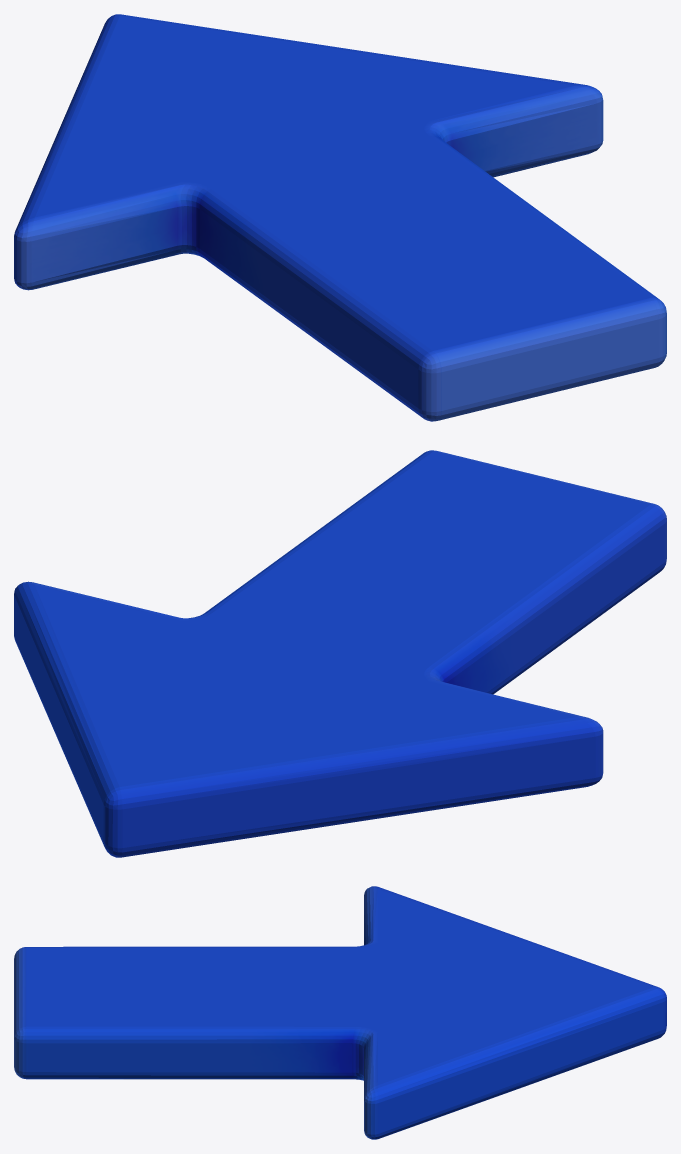
Rendered from flecha.obj.
3 views of the same model, one above another, from view 1: azimuth 30°, elevation 25°; view 2: azimuth 150°, elevation 25°; view 3: azimuth 270°, elevation 25° (orthographic). The views are drawn at different scales.
Parts seen in each view (by area): view 1: Object.1; view 2: Object.1; view 3: Object.1.
Part boxes in pixels (x1=…): Object.1: x1=14, y1=14, x2=666, y2=421; Object.1: x1=14, y1=450, x2=666, y2=857; Object.1: x1=14, y1=886, x2=666, y2=1139.
Size of the model in its own units: 195 by 22.04 by 254.
1 material, 1 textured.
